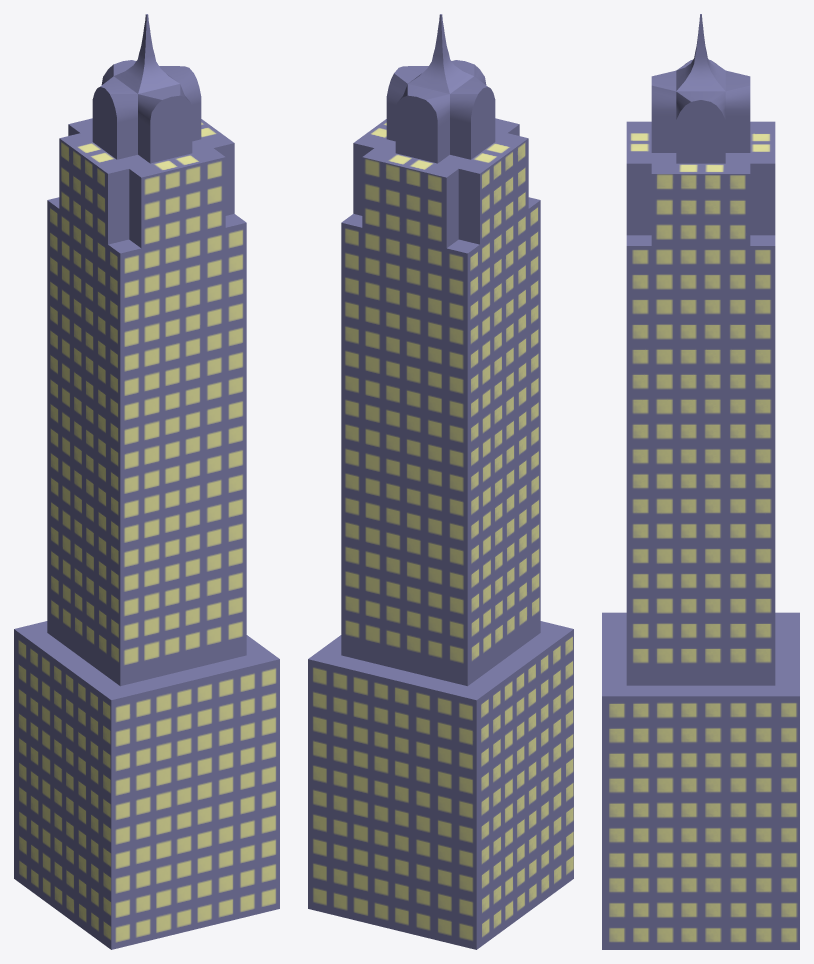
File: cb1Whole.fbx
3 renders of one model, left to right at view 1: azimuth 30°, elevation 25°; view 2: azimuth 150°, elevation 25°; view 3: azimuth 270°, elevation 25°, orthographic.
Parts seen in each view (by area): view 1: ChryslarBuilding1; view 2: ChryslarBuilding1; view 3: ChryslarBuilding1.
Boxes of the visible parts, box(x1,y1,x2,y2) form: ChryslarBuilding1: box(14, 14, 279, 949); ChryslarBuilding1: box(308, 14, 573, 949); ChryslarBuilding1: box(602, 14, 799, 949).
Bounding box in the file's own units: 0.0953 × 0.4748 × 0.0953.
Materials: 1 (1 with a texture image).
